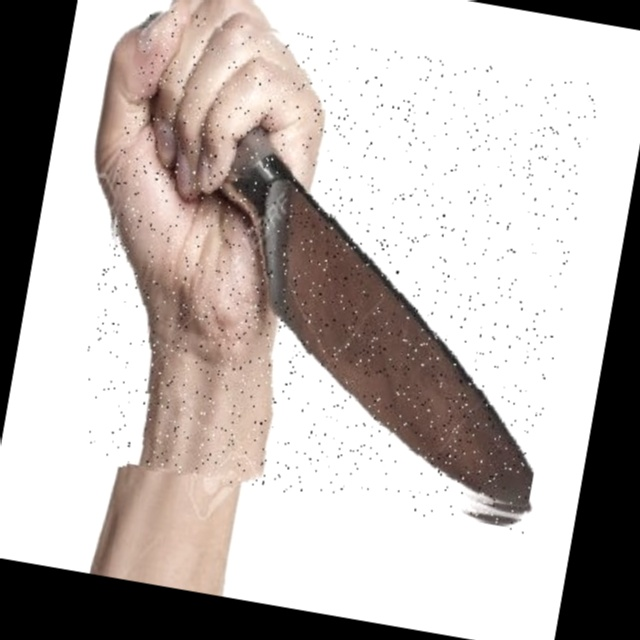Sharp-Object: (68, 6, 601, 533)
